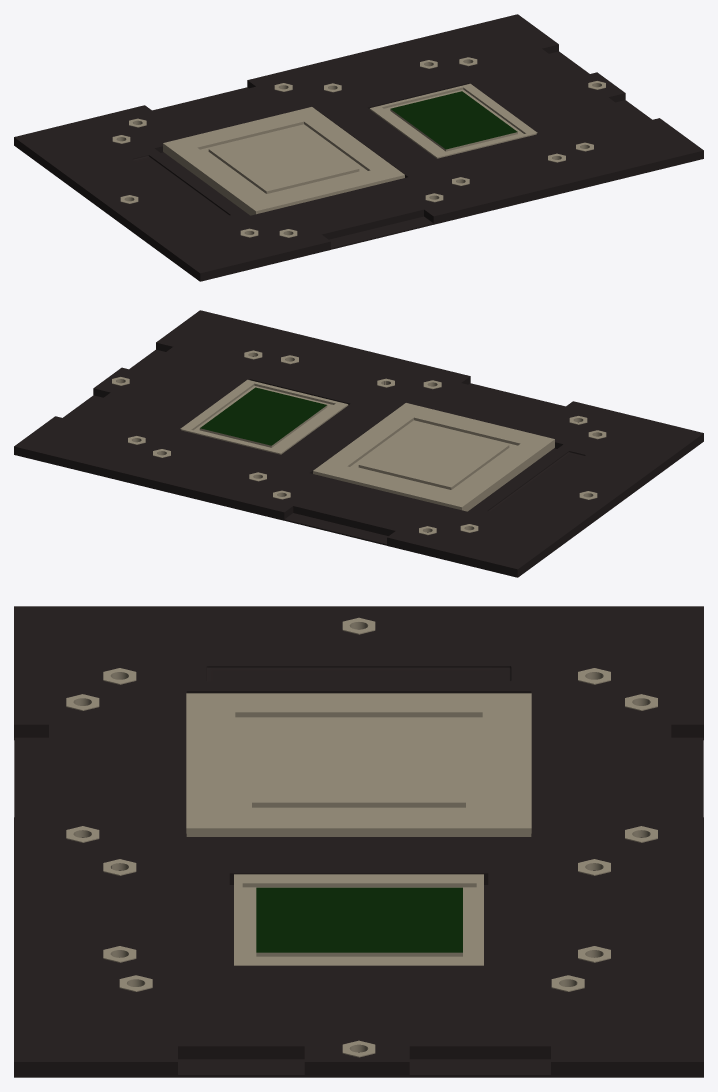
The picture shows the model from 3 angles, top to bottom: view 1: azimuth 30°, elevation 25°; view 2: azimuth 150°, elevation 25°; view 3: azimuth 270°, elevation 25°; orthographic projection. The views are drawn at different scales.
Parts seen in each view (by area): view 1: GH1, Gh1, GH2; view 2: GH1, Gh1, GH2; view 3: GH1, Gh1, GH2.
Part boxes in pixels (x1,y1,x2,y2): GH1: (14,14,703,281); Gh1: (163,107,404,215); GH2: (369,83,537,158); GH1: (14,310,703,577); Gh1: (313,403,554,511); GH2: (180,379,348,454); GH1: (14,606,703,1077); Gh1: (186,693,531,836); GH2: (234,874,483,965).
Size of the model in its own units: 0.125 by 0.00394 by 0.08.
